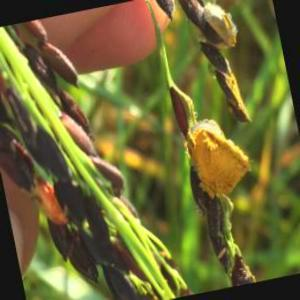Leaf_Scald: (191, 122, 244, 193), (35, 169, 75, 228)
